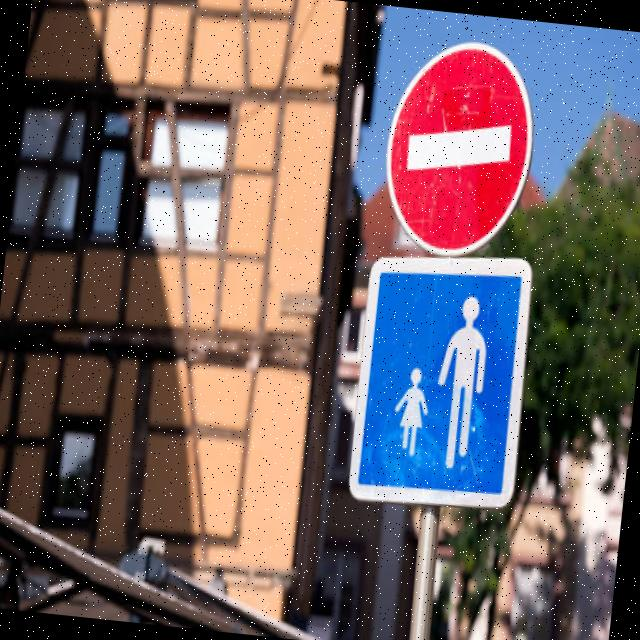do_not_enter: (368, 25, 549, 268)
